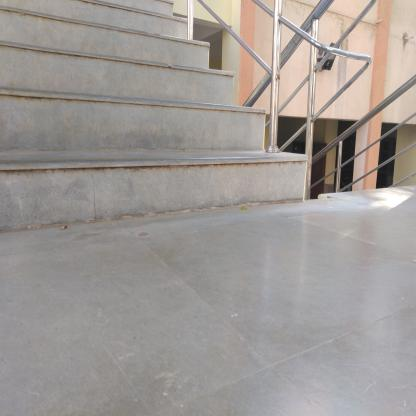stairs: (4, 4, 186, 234)
